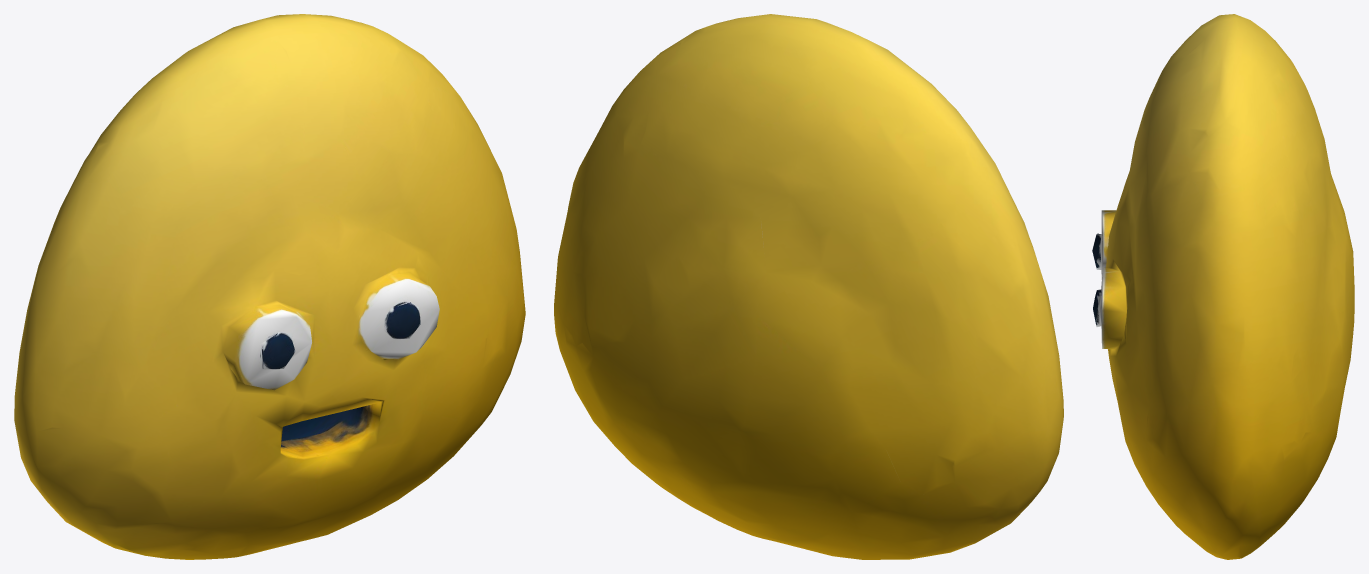
The model's file is dotty_3d.glb.
3 views of the same model, side by side, from view 1: azimuth 30°, elevation 25°; view 2: azimuth 150°, elevation 25°; view 3: azimuth 270°, elevation 25° (orthographic). The views are drawn at different scales.
Parts seen in each view (by area): view 1: tripo_node_04ade17c-3617-4821-a291-e9e74eaff202; view 2: tripo_node_04ade17c-3617-4821-a291-e9e74eaff202; view 3: tripo_node_04ade17c-3617-4821-a291-e9e74eaff202.
Boxes of the visible parts, left/top/right/bottom form: tripo_node_04ade17c-3617-4821-a291-e9e74eaff202: left=14, top=14, right=525, bottom=559; tripo_node_04ade17c-3617-4821-a291-e9e74eaff202: left=554, top=14, right=1063, bottom=559; tripo_node_04ade17c-3617-4821-a291-e9e74eaff202: left=1092, top=14, right=1354, bottom=559.
Bounding box in the file's own units: 0.9968 × 1 × 0.4862.
1 material, 1 textured.
